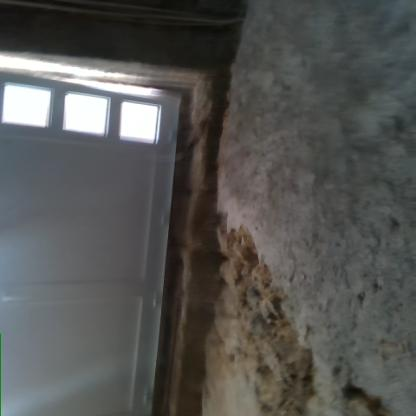closed: (0, 54, 231, 416)
